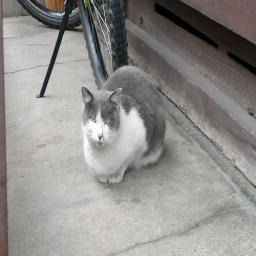catnose: (98, 132, 103, 142)
